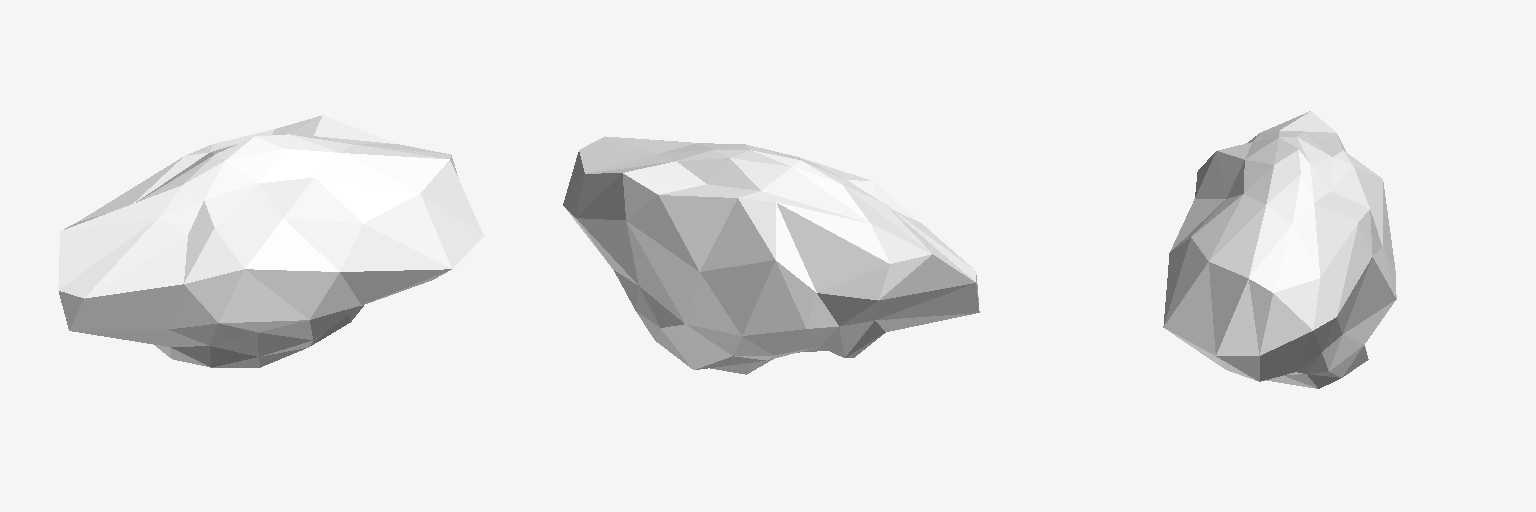
Rendered from cloud02.obj.
3 views of the same model, side by side, from view 1: azimuth 30°, elevation 25°; view 2: azimuth 150°, elevation 25°; view 3: azimuth 270°, elevation 25° (orthographic).
Parts seen in each view (by area): view 1: Mesh252; view 2: Mesh252; view 3: Mesh252.
Boxes of the visible parts, x1,y1,x2,y2 form: Mesh252: [58, 115, 483, 367]; Mesh252: [563, 136, 979, 374]; Mesh252: [1163, 111, 1396, 388].
Bounding box in the file's own units: 984 × 513 × 490.